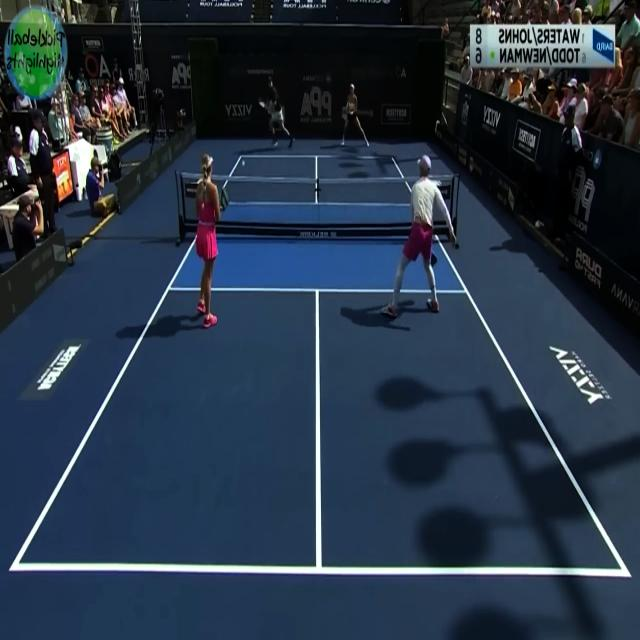Pickleball: (240, 158, 246, 167)
